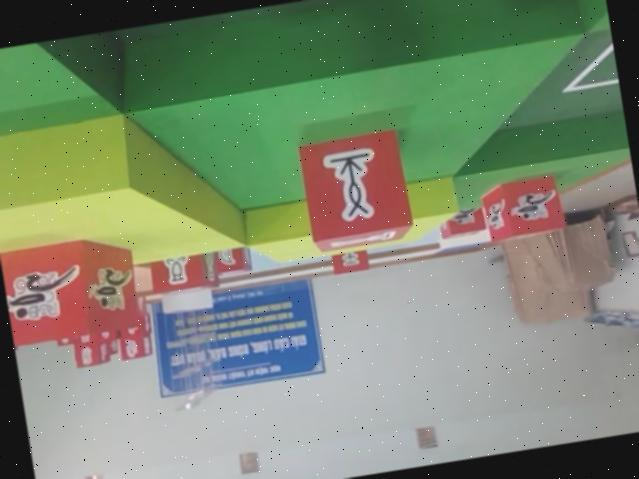R1: (0, 232, 143, 350), (478, 174, 565, 243), (434, 199, 484, 241)
R2 Real: (294, 126, 414, 253), (145, 244, 220, 299)
